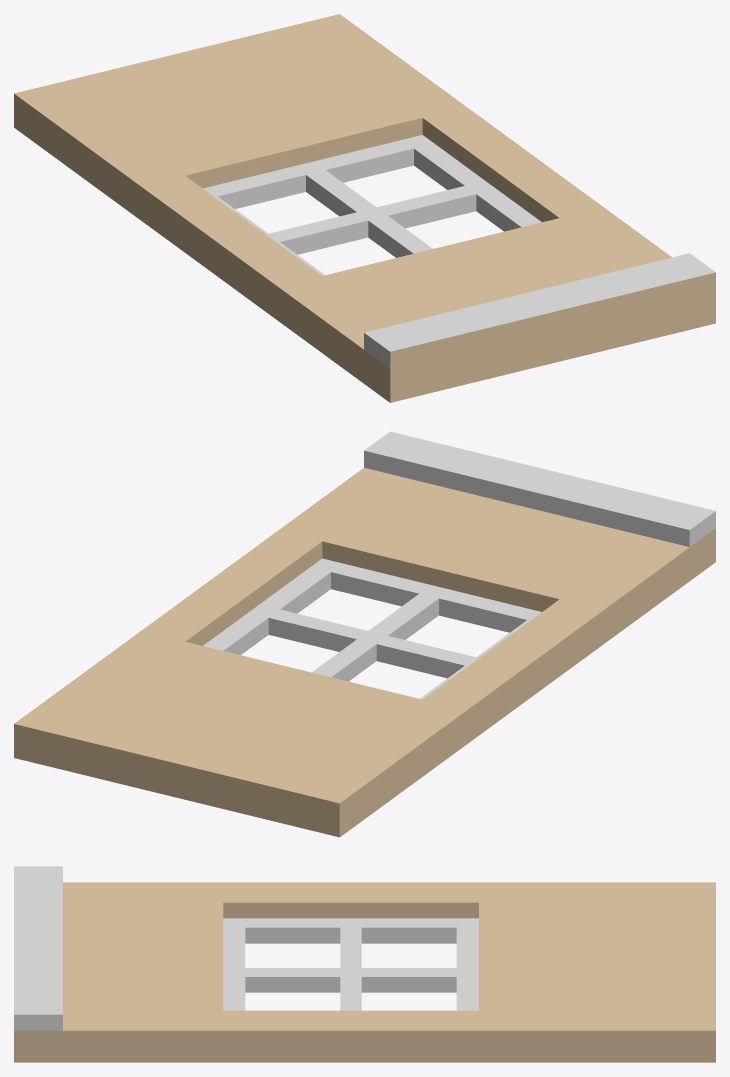
The model's file is Wand mit Fenster (1).fbx.
The picture shows the model from 3 angles, top to bottom: view 1: azimuth 30°, elevation 25°; view 2: azimuth 150°, elevation 25°; view 3: azimuth 270°, elevation 25°; orthographic projection. The views are drawn at different scales.
Parts seen in each view (by area): view 1: Wand mit Fenster; view 2: Wand mit Fenster; view 3: Wand mit Fenster.
Part boxes in pixels (x1,y1,x2,y2): Wand mit Fenster: [14, 14, 715, 402]; Wand mit Fenster: [14, 431, 715, 837]; Wand mit Fenster: [14, 866, 715, 1062].
Bounding box in the file's own units: 200 × 30 × 400.
